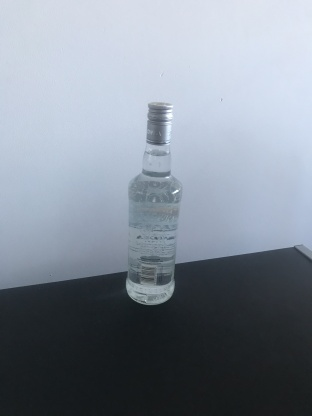nakretka: (144, 100, 174, 145)
